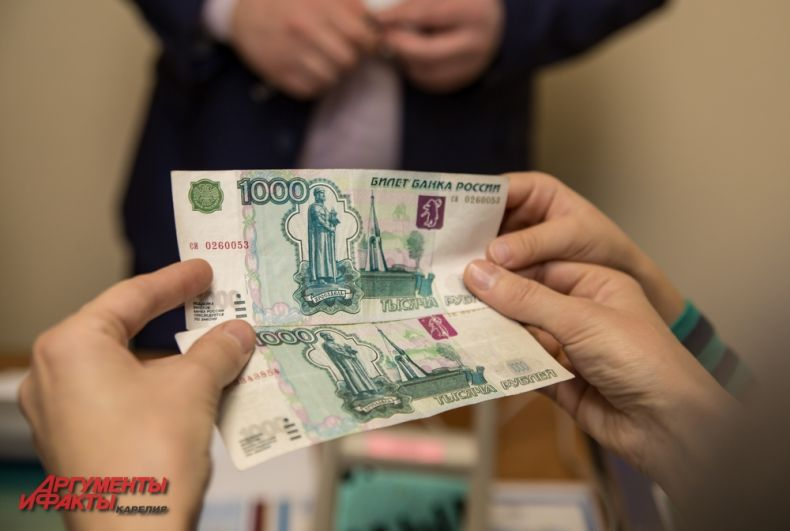cash: (177, 331, 575, 474), (172, 168, 508, 323)
